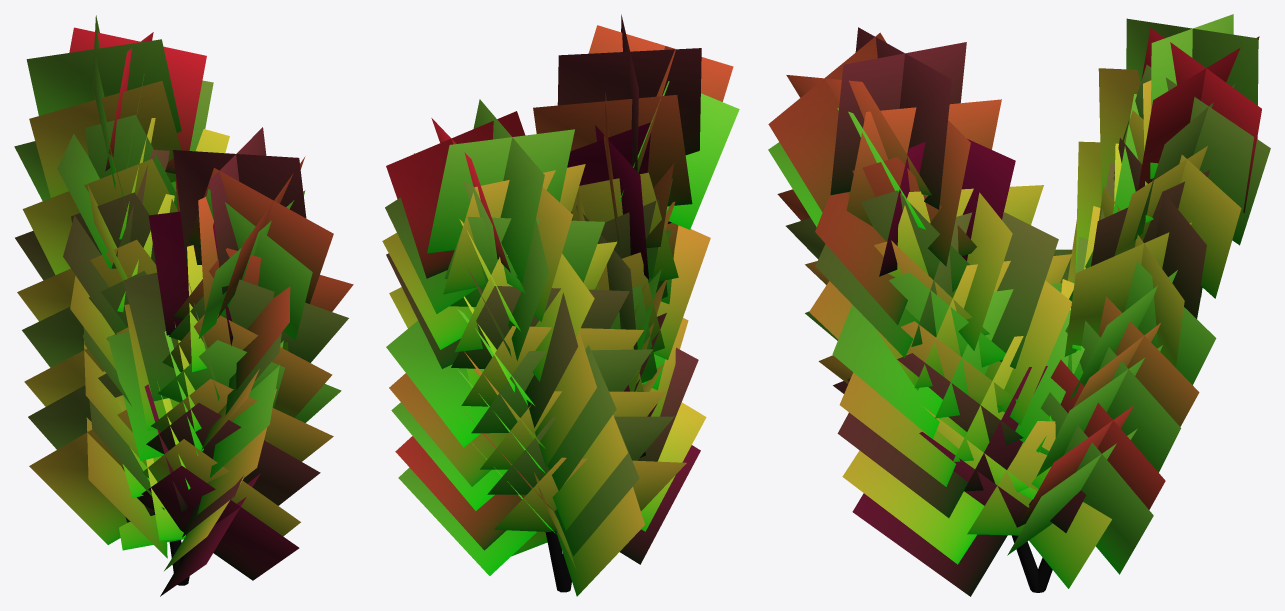
Rendered from Tree_15.fbx.
The picture shows the model from 3 angles, left to right: view 1: azimuth 30°, elevation 25°; view 2: azimuth 150°, elevation 25°; view 3: azimuth 270°, elevation 25°; orthographic projection. The views are drawn at different scales.
Visible parts, largest first — view 1: Tree_15; view 2: Tree_15; view 3: Tree_15.
Part boxes in pixels (<box>): Tree_15: <box>14,15,353,596</box>; Tree_15: <box>382,14,739,596</box>; Tree_15: <box>768,14,1270,596</box>.
Bounding box in the file's own units: 1165 × 2407 × 1946.
